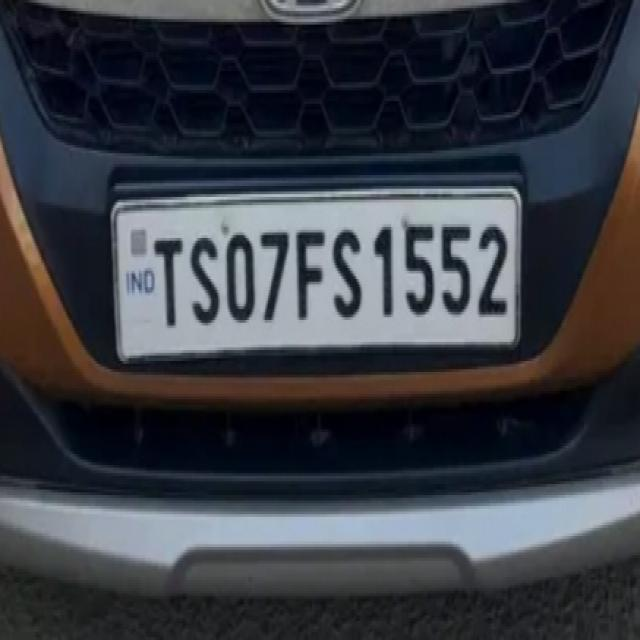0: (222, 224, 259, 336)
1: (374, 210, 396, 330)
5: (403, 210, 437, 332), (438, 208, 473, 325)
7: (253, 219, 294, 327)
F: (292, 219, 330, 329)
S: (328, 211, 367, 328), (185, 225, 223, 342)
T: (150, 226, 188, 340)
